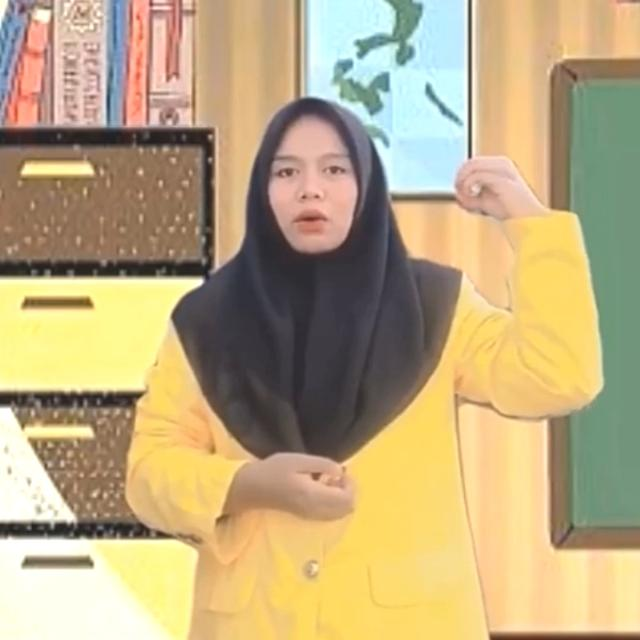O: (449, 143, 531, 220)
